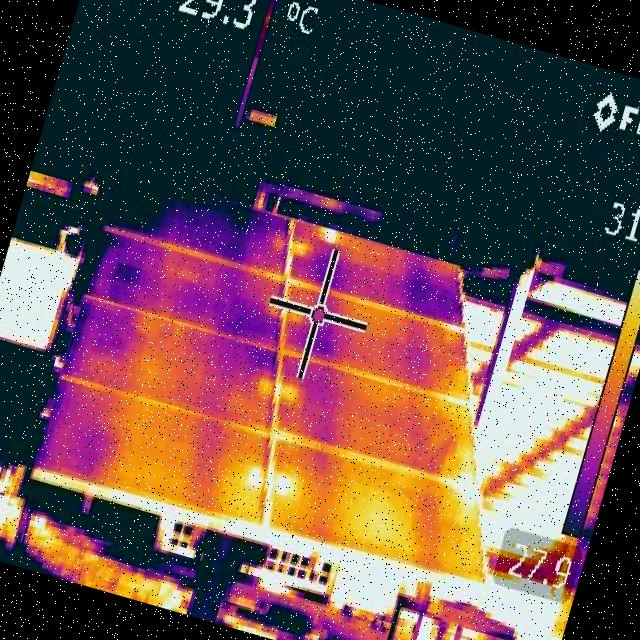Hotspot: (266, 463, 300, 508), (448, 479, 483, 519), (240, 460, 266, 496), (314, 223, 346, 251), (253, 374, 276, 398), (276, 381, 300, 404), (290, 238, 310, 260)
